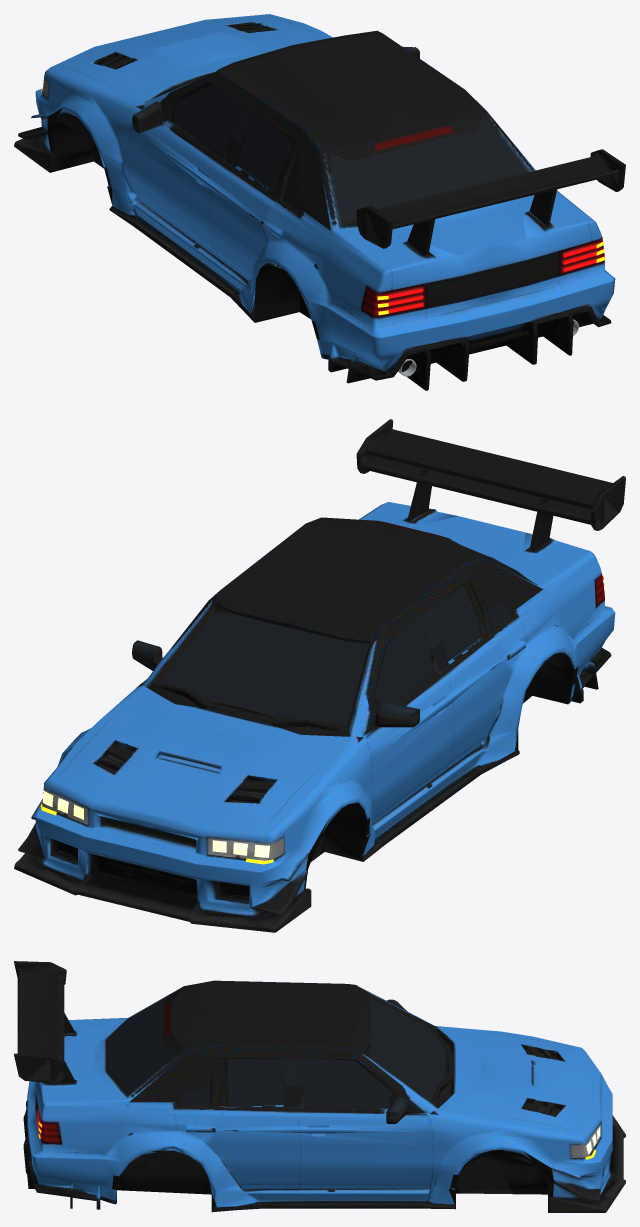
Rendered from jdm.glb.
The picture shows the model from 3 angles, top to bottom: view 1: azimuth 30°, elevation 25°; view 2: azimuth 150°, elevation 25°; view 3: azimuth 270°, elevation 25°; orthographic projection. The views are drawn at different scales.
Visible parts, largest first — view 1: body, brake_C; view 2: body; view 3: body.
Boxes of the visible parts, left/top/right/bottom form: body: left=14, top=14, right=625, bottom=390; brake_C: left=374, top=125, right=452, bottom=150; body: left=14, top=419, right=625, bottom=932; body: left=14, top=961, right=625, bottom=1212.
Size of the model in its own units: 1.92 by 1.21 by 4.4.
Materials: 17 (1 with a texture image).
